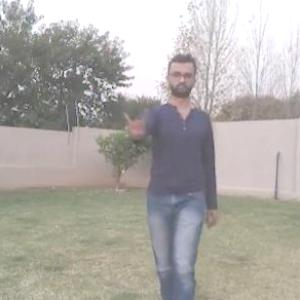takeoff-hand: (120, 105, 153, 140)
